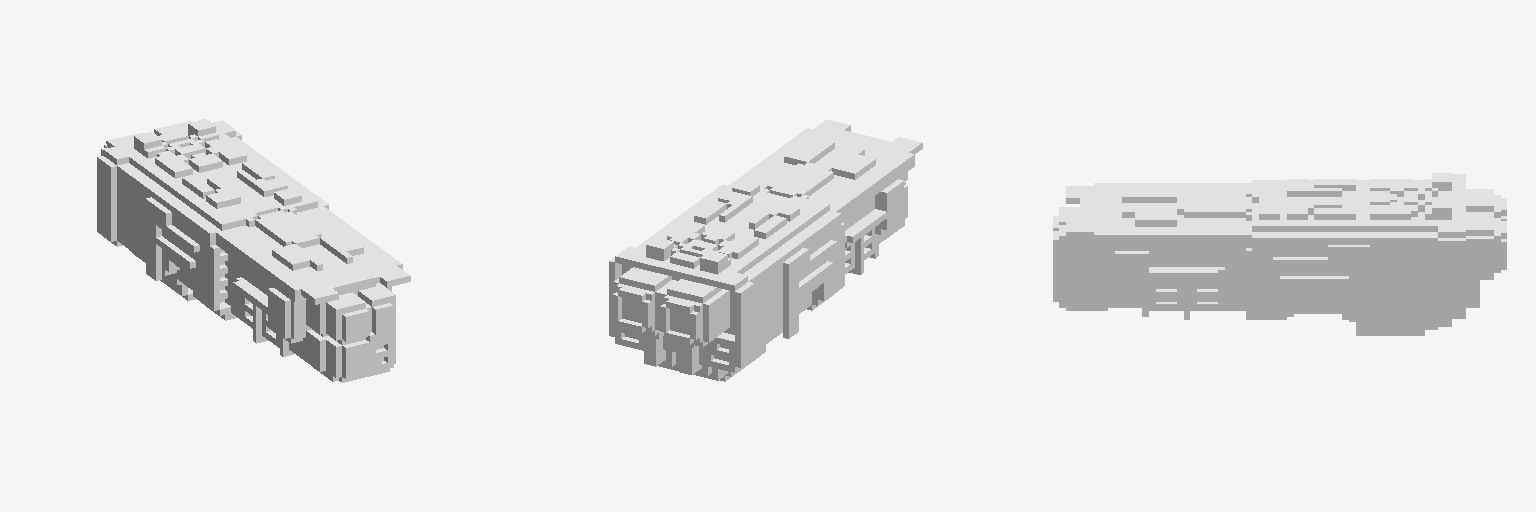
Rendered from Extra-0-StarMarine_Body.obj.
3 views of the same model, side by side, from view 1: azimuth 30°, elevation 25°; view 2: azimuth 150°, elevation 25°; view 3: azimuth 270°, elevation 25° (orthographic).
Parts seen in each view (by area): view 1: StarMarine_Body; view 2: StarMarine_Body; view 3: StarMarine_Body.
Boxes of the visible parts, x1=… form: StarMarine_Body: x1=97, y1=119, x2=410, y2=382; StarMarine_Body: x1=609, y1=119, x2=922, y2=381; StarMarine_Body: x1=1053, y1=173, x2=1506, y2=335.
Bounding box in the file's own units: 2.2 × 2.1 × 6.6.